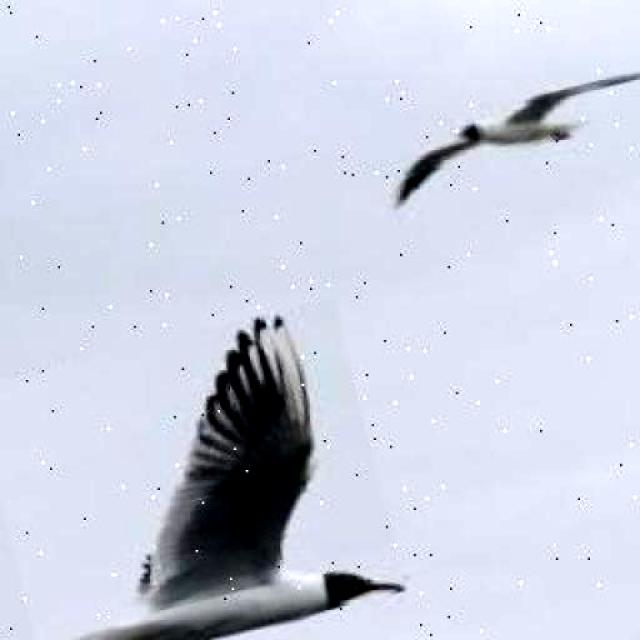airplane: (0, 298, 409, 640), (375, 62, 640, 204)
